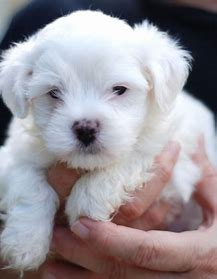dog: (3, 13, 202, 236)
